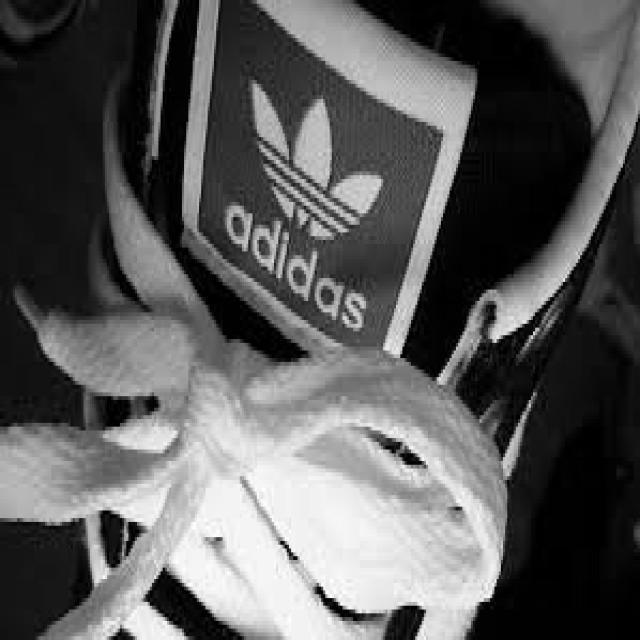Adidas: (223, 69, 392, 346)
